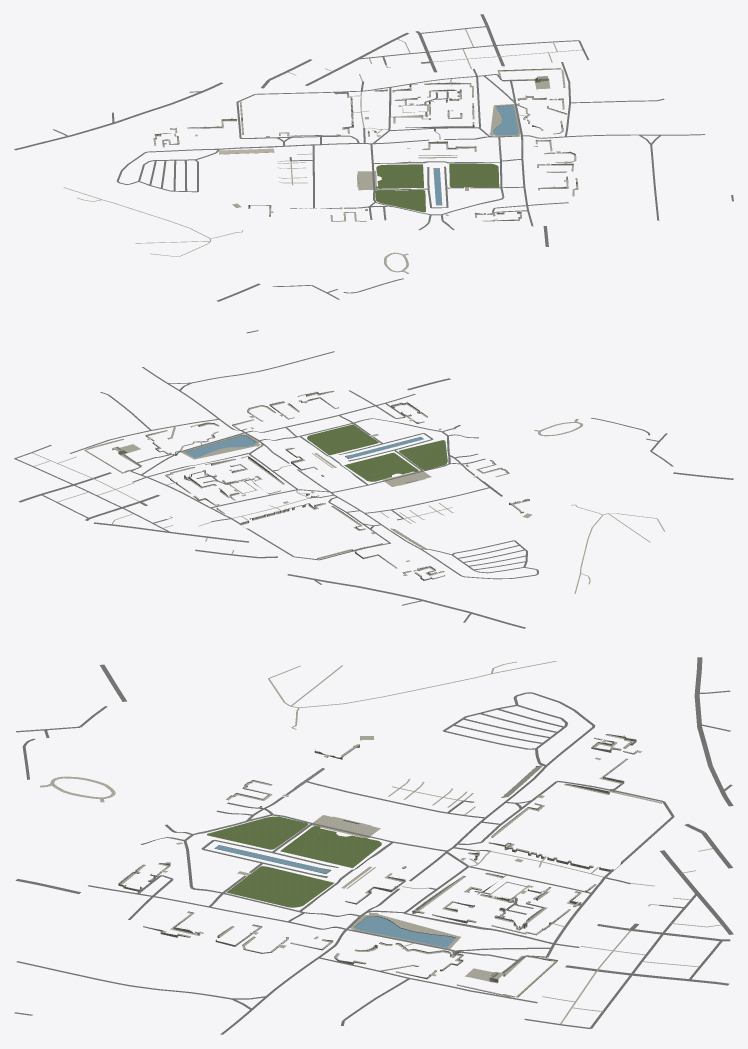
The picture shows the model from 3 angles, top to bottom: view 1: azimuth 30°, elevation 25°; view 2: azimuth 150°, elevation 25°; view 3: azimuth 270°, elevation 25°; orthographic projection. The views are drawn at different scales.
Parts seen in each view (by area): view 1: inha-asphalt-overlay, inha-grass, inha-paving (×2), inha-paving-overlay, inha-stonebank, inha-water; view 2: inha-asphalt-overlay, inha-grass, inha-paving (×2), inha-stonebank, inha-paving-overlay, inha-water; view 3: inha-asphalt-overlay, inha-grass, inha-paving (×2), inha-stonebank, inha-paving-overlay, inha-water, site-2.
Boxes of the visible parts, x1,y1,x2,y2 form: inha-asphalt-overlay: (14, 14, 733, 301); inha-grass: (375, 163, 499, 212); inha-paving (×2): (153, 69, 577, 221); inha-paving-overlay: (63, 29, 582, 273); inha-stonebank: (153, 70, 578, 221); inha-water: (433, 105, 518, 204); inha-asphalt-overlay: (14, 330, 733, 628); inha-grass: (307, 424, 447, 481); inha-paving (×2): (85, 391, 532, 577); inha-stonebank: (88, 391, 529, 580); inha-paving-overlay: (32, 419, 664, 593); inha-water: (185, 435, 423, 458); inha-asphalt-overlay: (14, 657, 733, 1034); inha-grass: (207, 816, 381, 907); inha-paving (×2): (120, 734, 661, 996); inha-stonebank: (118, 734, 661, 997); inha-paving-overlay: (40, 661, 723, 1023); inha-water: (215, 845, 455, 947); site-2: (118, 734, 636, 996).
Size of the model in its own units: 907 by 29.06 by 719.
15 materials, 7 textured.
